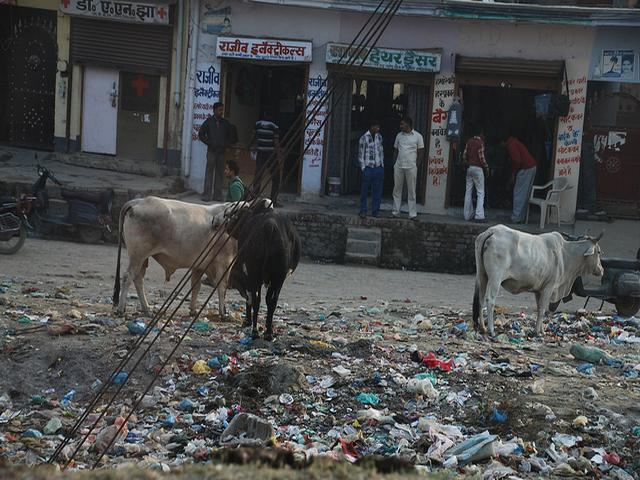garbage: (182, 337, 589, 465)
